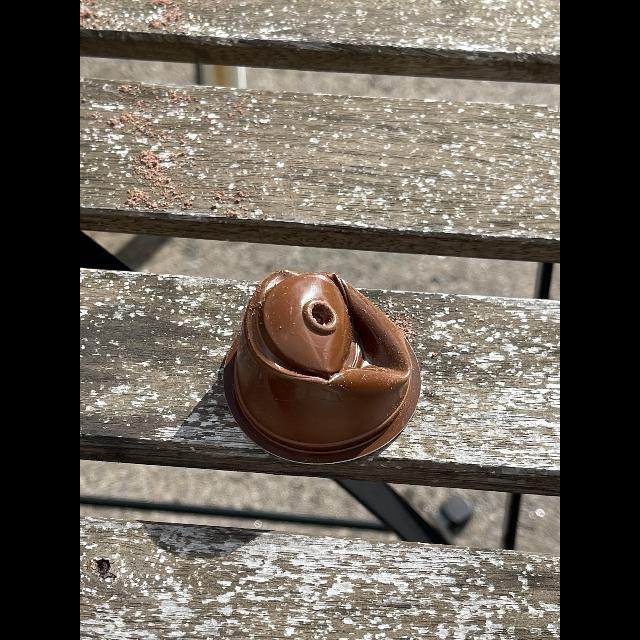damaged_capsule: (223, 264, 434, 470)
